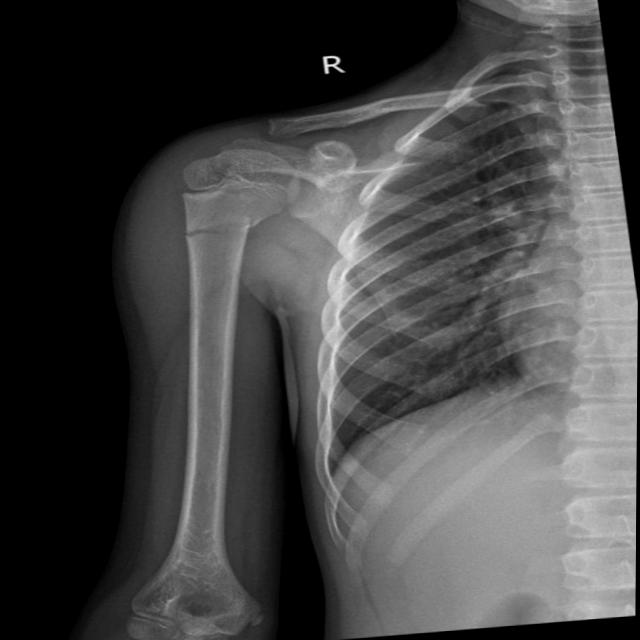Transverse Displaced: (162, 204, 272, 256)
